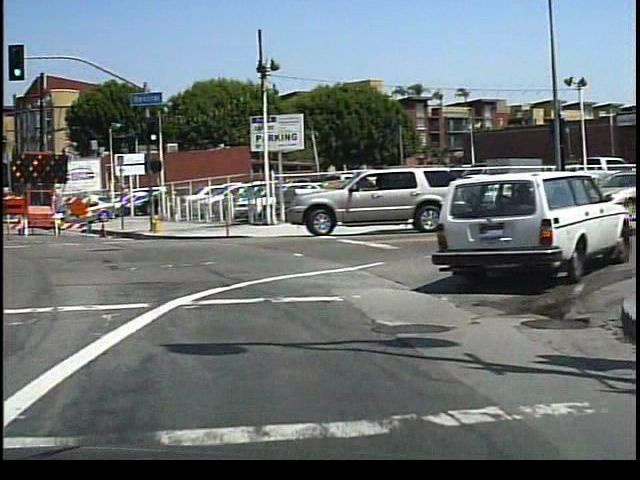person: (562, 161, 581, 204)
